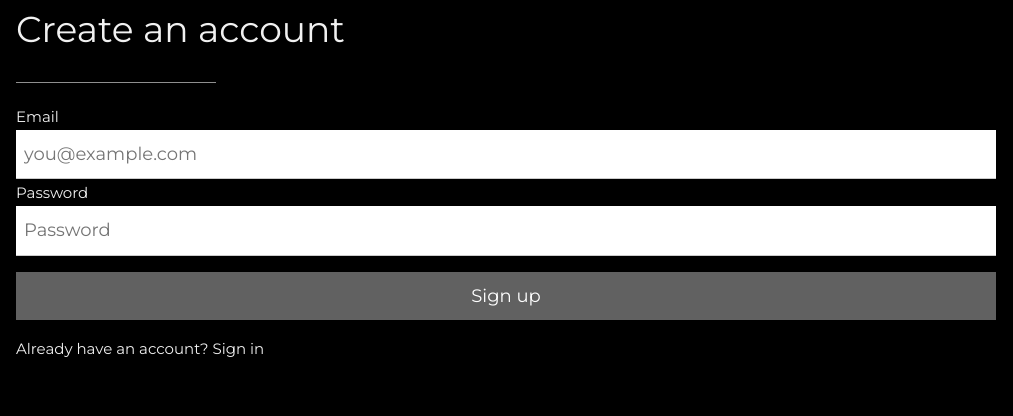
Test: Signup › shows error message when Supabase signup fails
Type "test@example.com" into the field labelled "Email" at (506, 154), box [16,130,996,179]
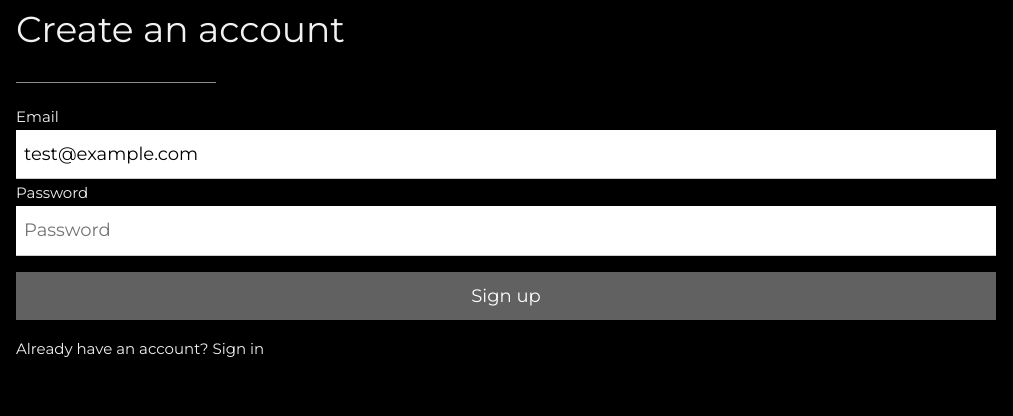
Type "password123" into the password field labelled "Password" at (506, 231), box [16,206,996,256]
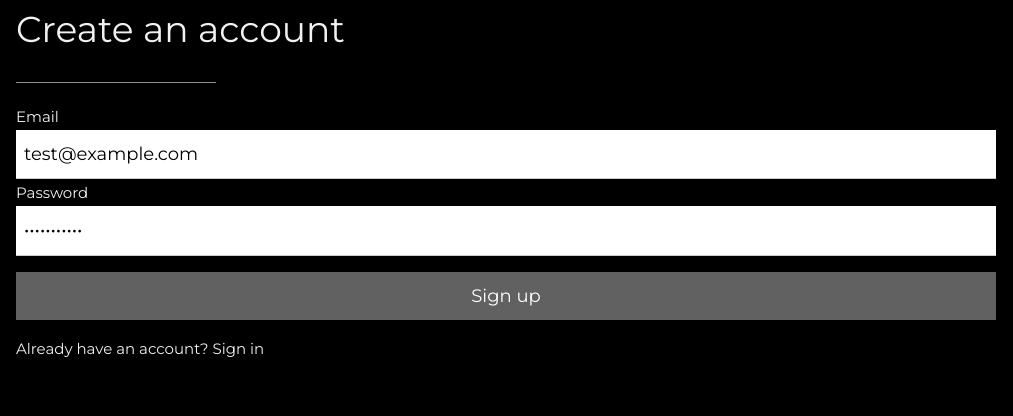
Click the button "Sign up" at (506, 296), box [16,272,996,320]
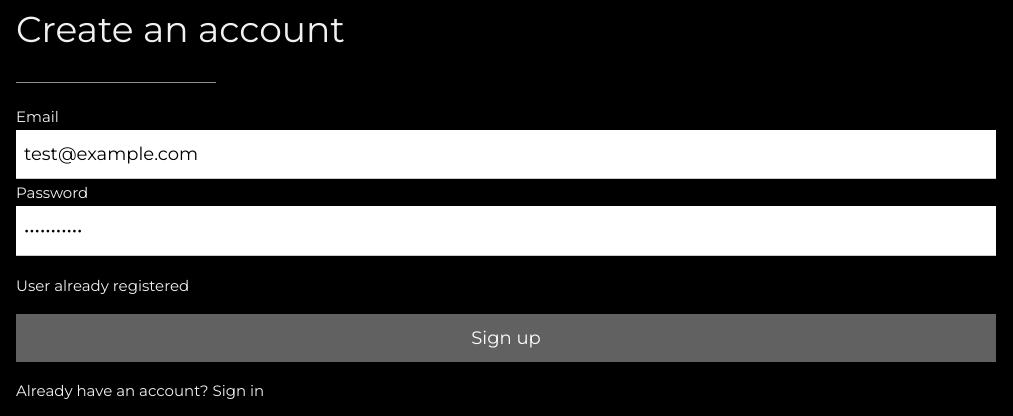
Result: the message reads "User already registered" at [16,276,189,295]
